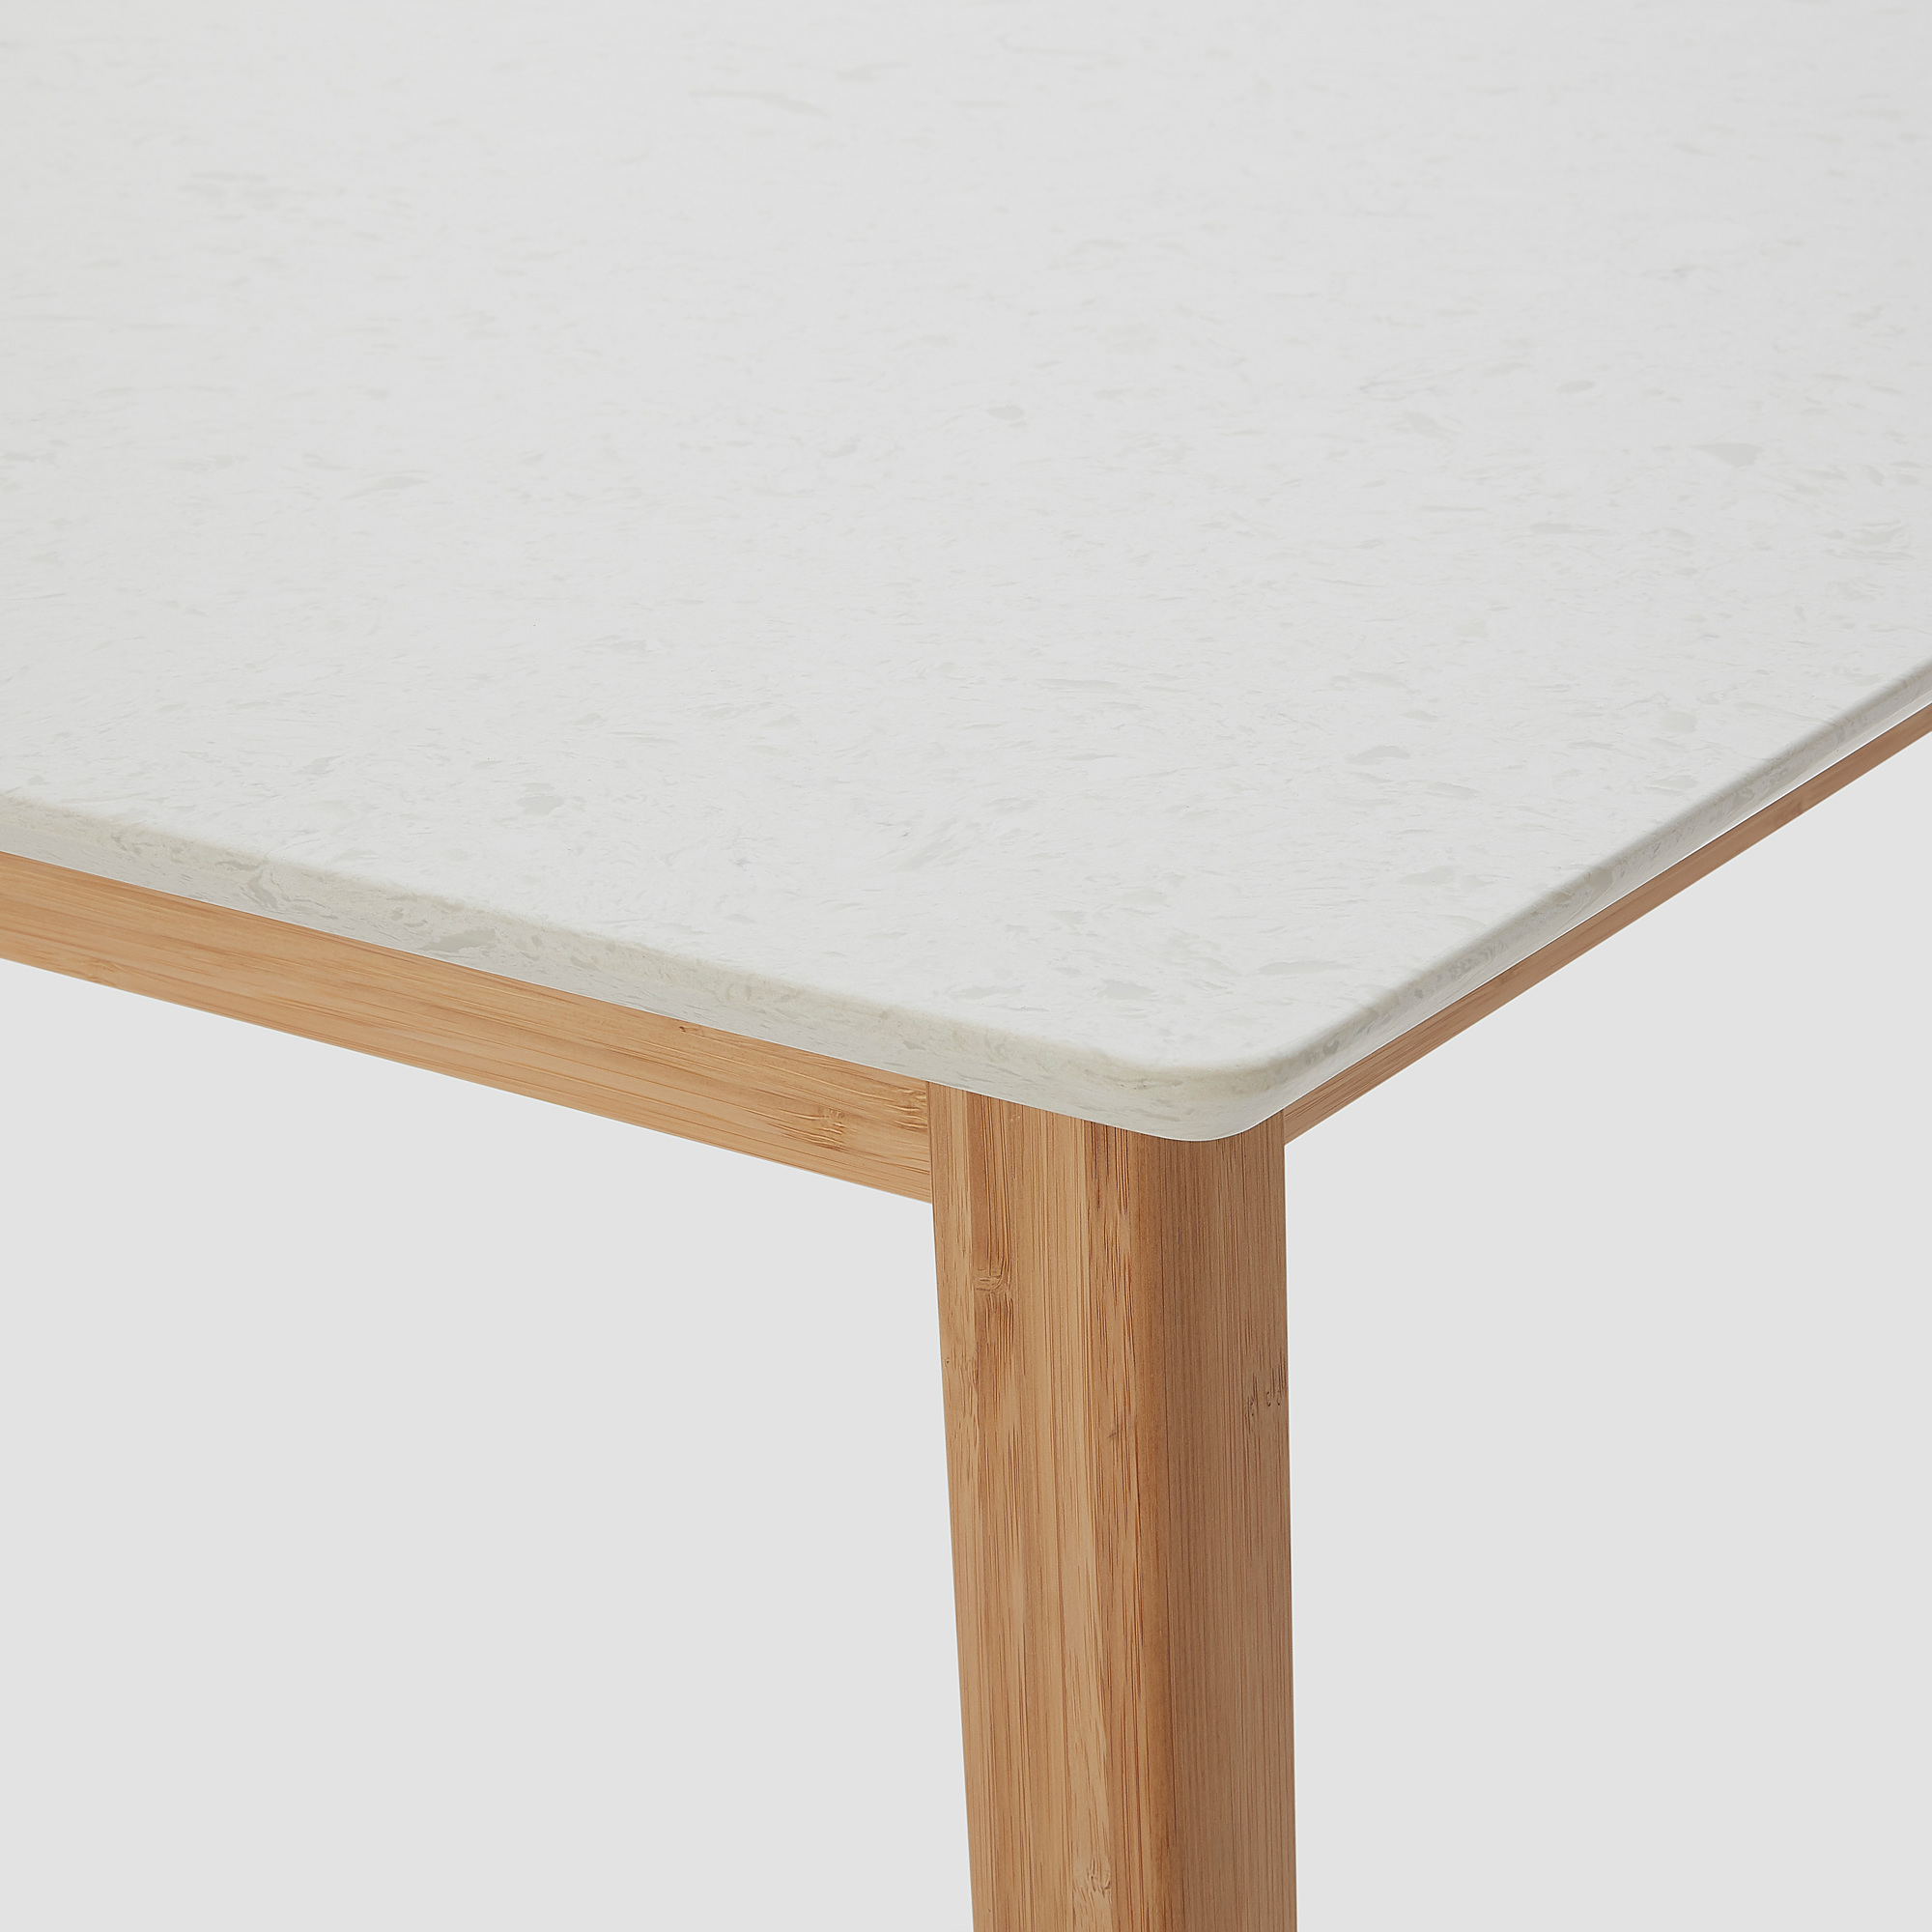meja: (2, 364, 1932, 1932)
